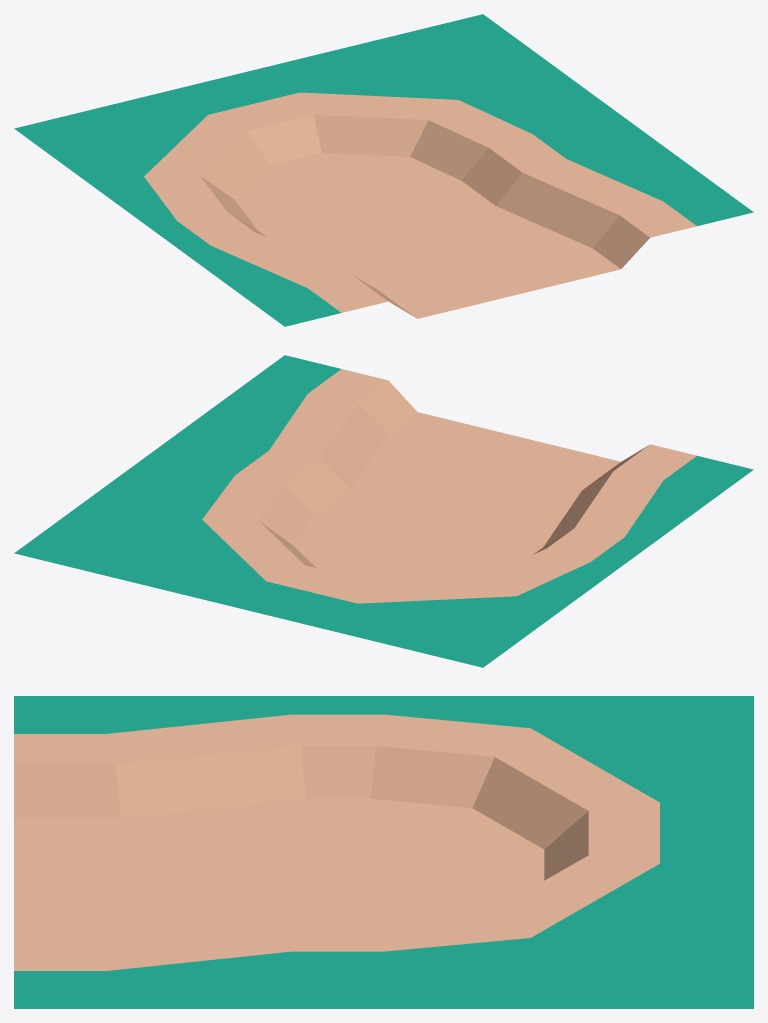
Rendered from ground_pathEndClosed.glb.
3 views of the same model, one above another, from view 1: azimuth 30°, elevation 25°; view 2: azimuth 150°, elevation 25°; view 3: azimuth 270°, elevation 25° (orthographic). The views are drawn at different scales.
Visible parts, largest first — view 1: ground_pathEndClosed; view 2: ground_pathEndClosed; view 3: ground_pathEndClosed.
Boxes of the visible parts, x1,y1,x2,y2 form: ground_pathEndClosed: (14,14,753,326); ground_pathEndClosed: (14,355,753,667); ground_pathEndClosed: (14,696,753,1008).
Bounding box in the file's own units: 1 × 0.05 × 1.
